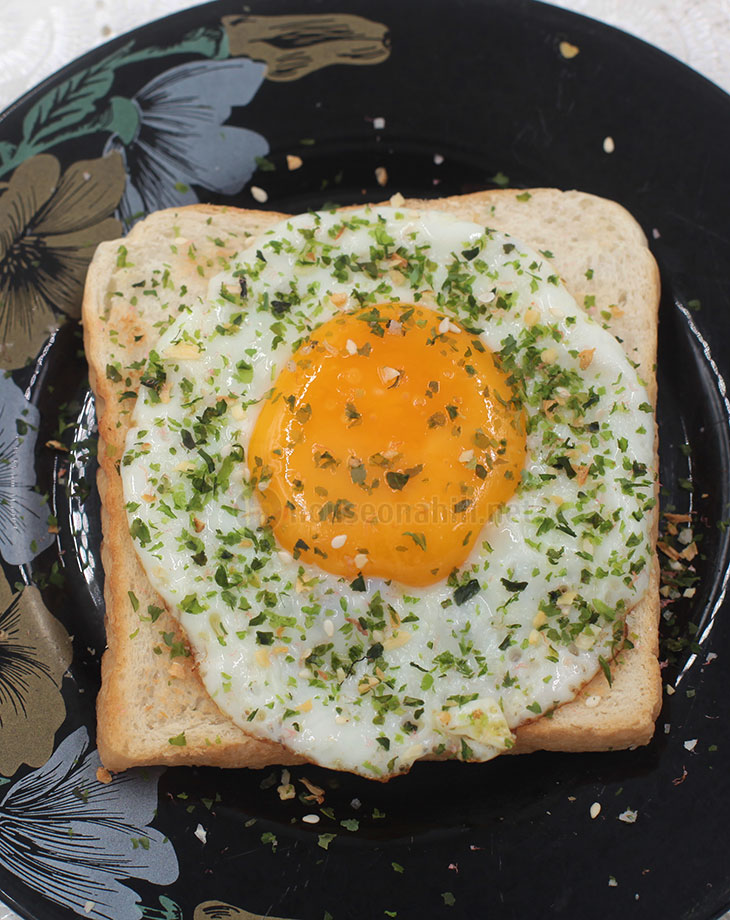fried egg: (183, 245, 598, 685)
